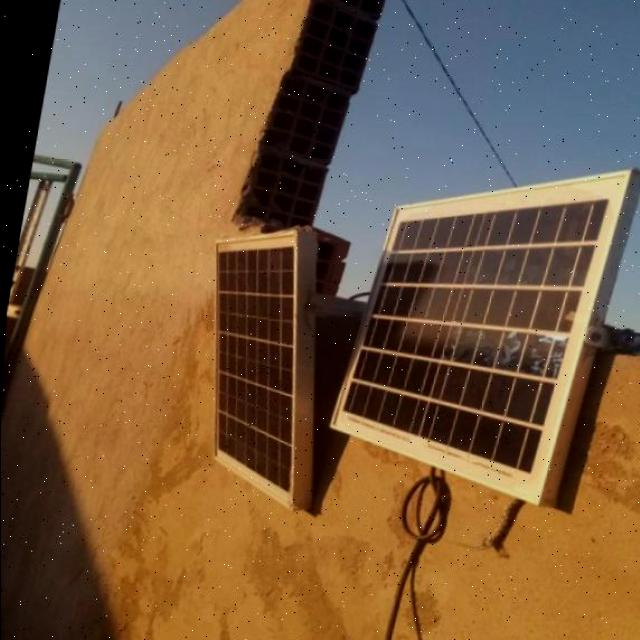Normal Solar Panel: (168, 224, 328, 510)
